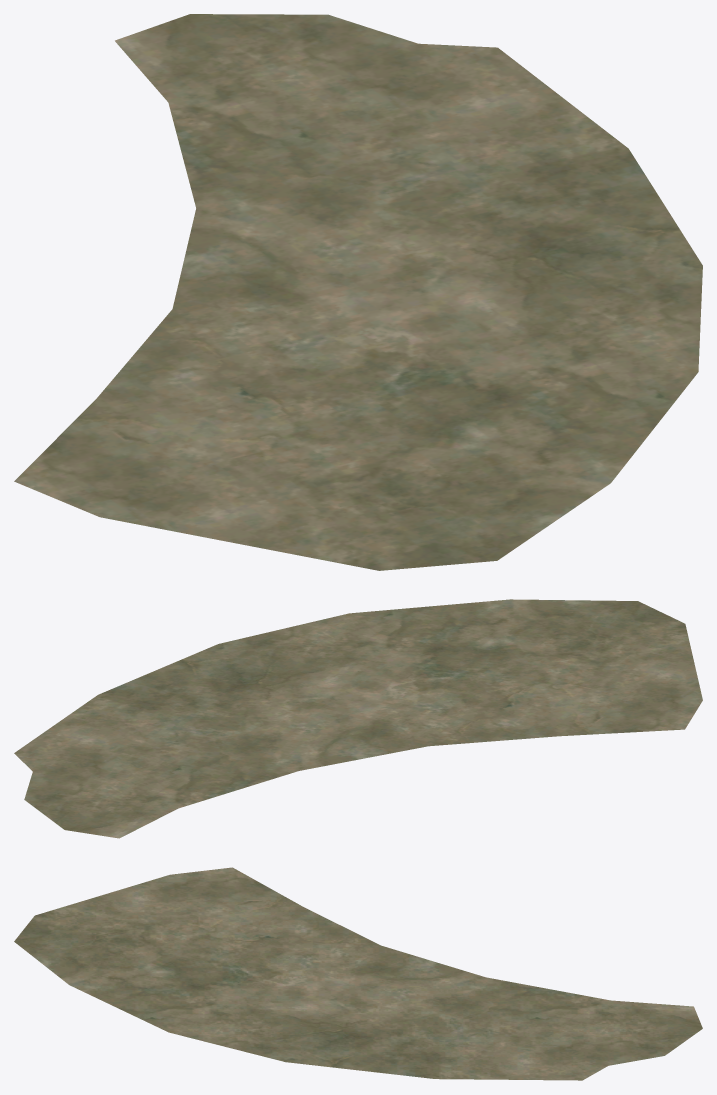
File: OVERHILL_A_01_OBJECT08.fbx
The picture shows the model from 3 angles, top to bottom: view 1: azimuth 30°, elevation 25°; view 2: azimuth 150°, elevation 25°; view 3: azimuth 270°, elevation 25°; orthographic projection. The views are drawn at different scales.
Parts seen in each view (by area): view 1: OVERHILL_A_01_OBJECT08; view 2: OVERHILL_A_01_OBJECT08; view 3: OVERHILL_A_01_OBJECT08.
Part boxes in pixels (box(x1,y1,x2,y2)): OVERHILL_A_01_OBJECT08: box(14, 14, 702, 570); OVERHILL_A_01_OBJECT08: box(14, 599, 702, 838); OVERHILL_A_01_OBJECT08: box(14, 867, 702, 1080).
Bounding box in the file's own units: 26186 × 0.00703 × 35783.
Materials: 1 (1 with a texture image).
